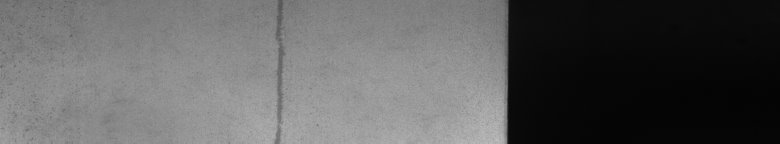hd: (268, 4, 288, 136)
